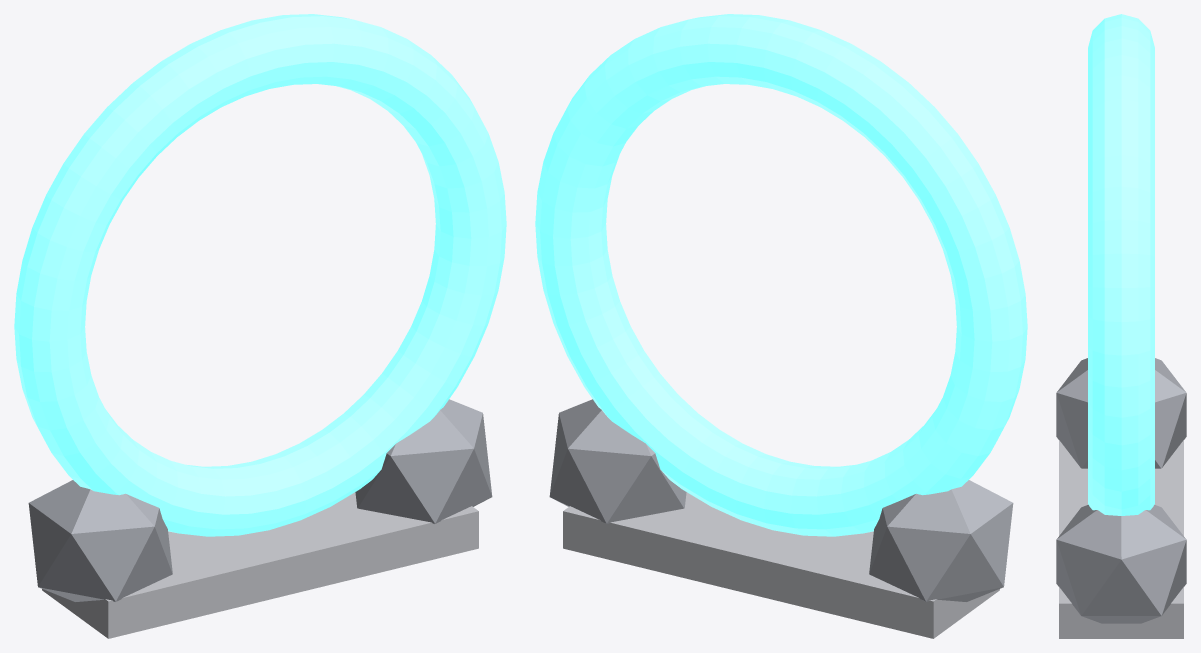
The model's file is portal_final_lev1.glb.
The picture shows the model from 3 angles, left to right: view 1: azimuth 30°, elevation 25°; view 2: azimuth 150°, elevation 25°; view 3: azimuth 270°, elevation 25°; orthographic projection. The views are drawn at different scales.
Parts seen in each view (by area): view 1: portal_final_lev1; view 2: portal_final_lev1; view 3: portal_final_lev1.
Boxes of the visible parts, left/top/right/bottom form: portal_final_lev1: left=14, top=14, right=506, bottom=638; portal_final_lev1: left=535, top=14, right=1027, bottom=638; portal_final_lev1: left=1056, top=14, right=1186, bottom=638.
Bounding box in the file's own units: 3.78 × 4.12 × 0.9357.
